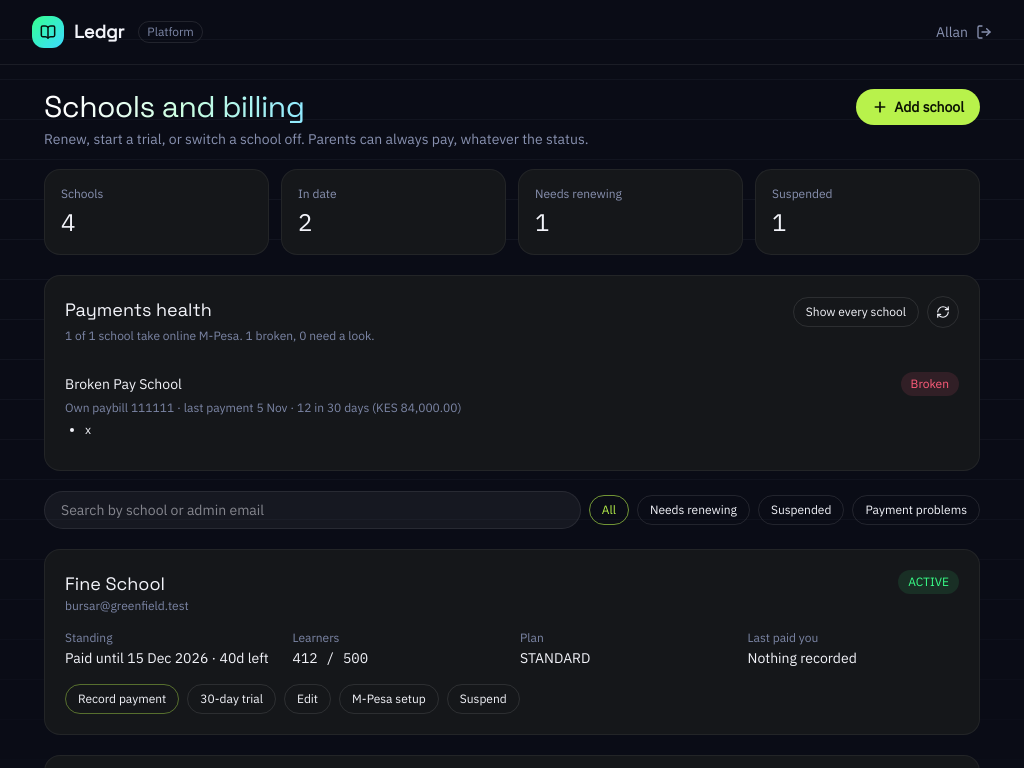
finding a school among many › filters to the schools that need renewing, are suspended, or have payment problems
expect the heading "Fine School" is shown: met, box left=65, top=572, right=165, bottom=595
expect the button "Payment problems" is shown: met, box left=852, top=495, right=980, bottom=525
Click the button "Needs renewing" at (694, 510), box left=637, top=495, right=750, bottom=525
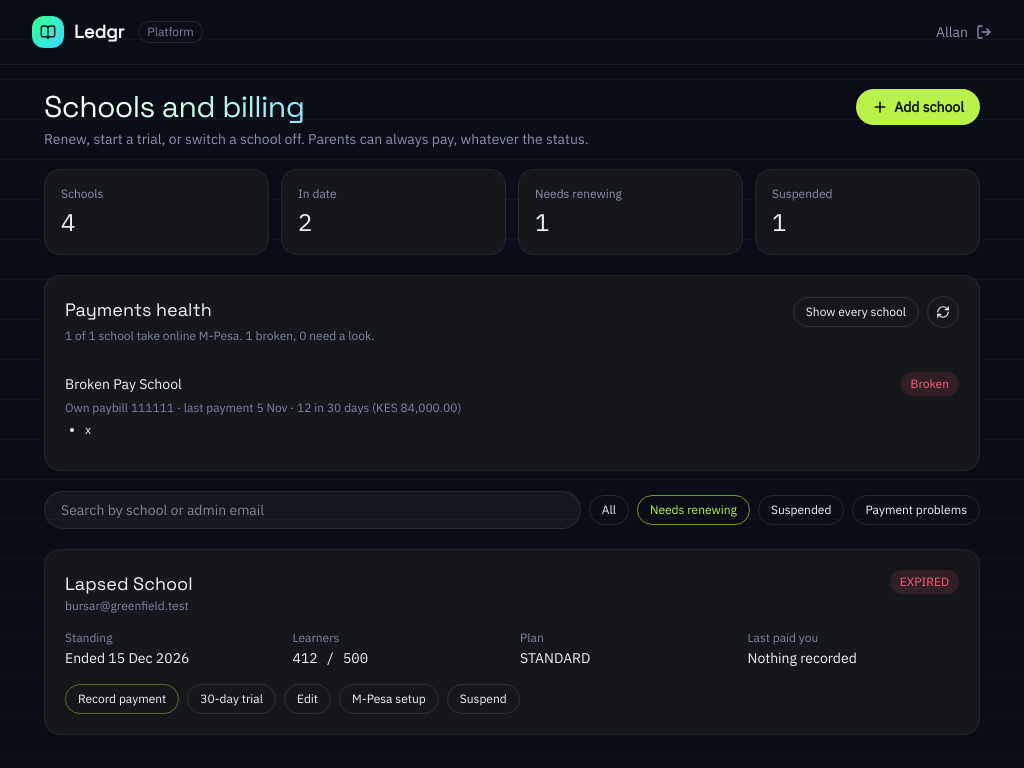
expect the heading "Lapsed School" is shown: met, box left=65, top=570, right=193, bottom=598
expect the heading "Fine School" is gone: met
Click the button "Suspended" at (801, 510), box left=758, top=495, right=844, bottom=525
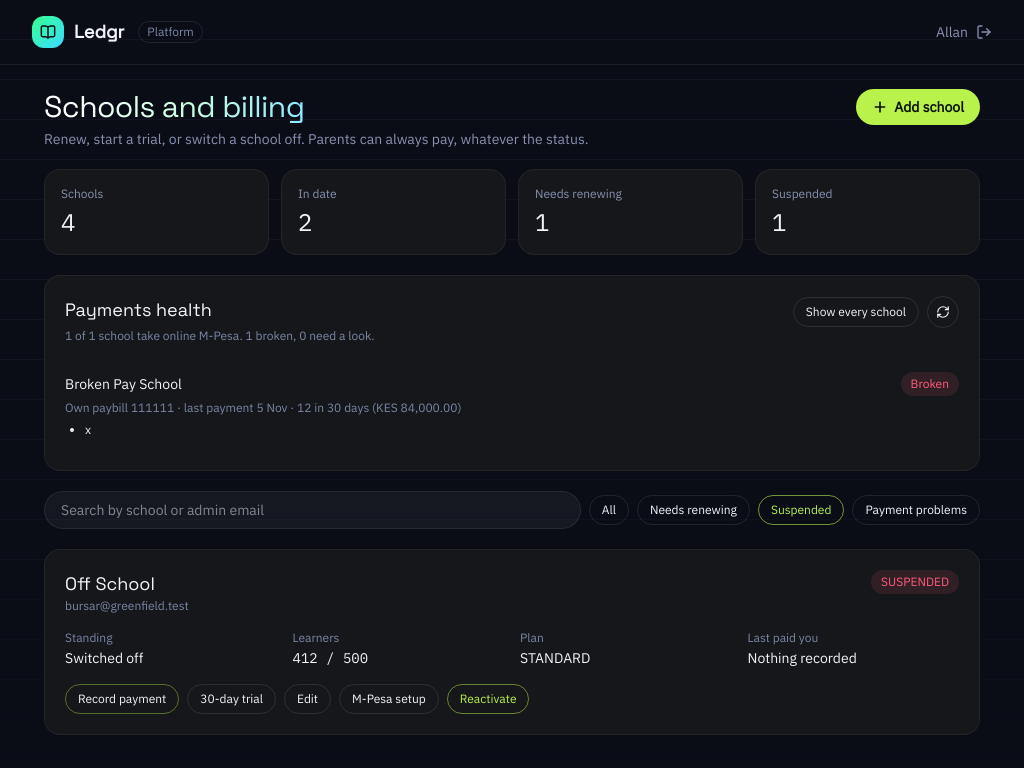
expect the heading "Off School" is shown: met, box left=65, top=572, right=155, bottom=595
expect the heading "Lapsed School" is gone: met
Click the button "Payment problems" at (916, 510), box left=852, top=495, right=980, bottom=525
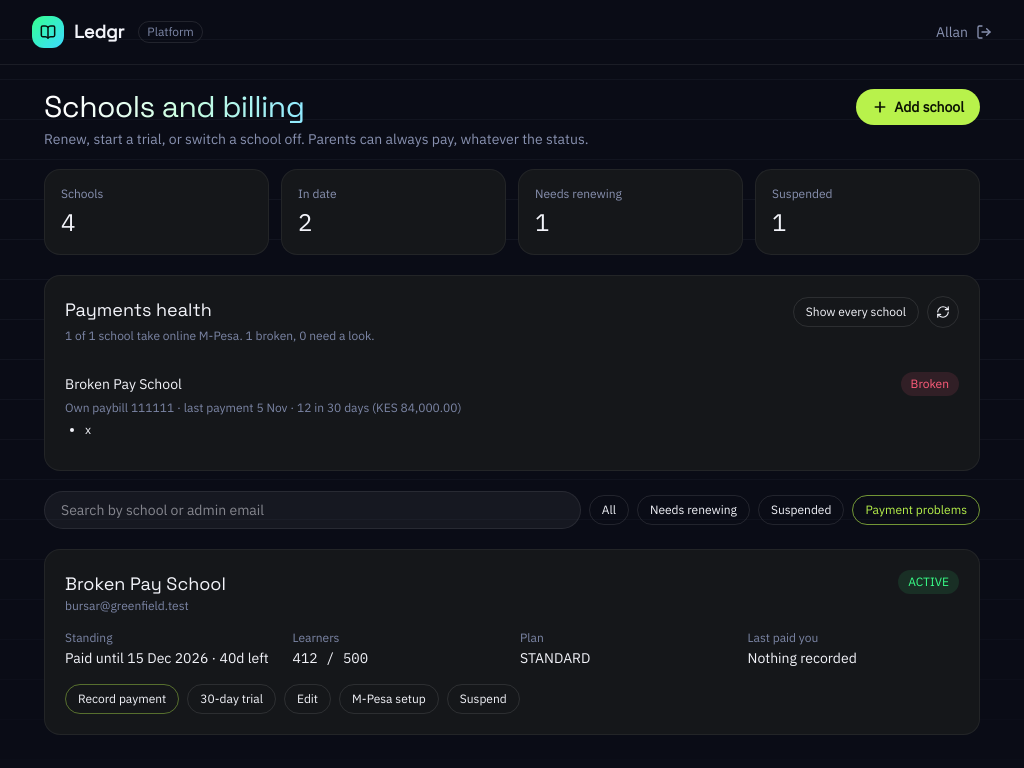
expect the button "Broken Pay School" is shown: met, box left=65, top=374, right=182, bottom=394
expect the heading "Off School" is gone: met
